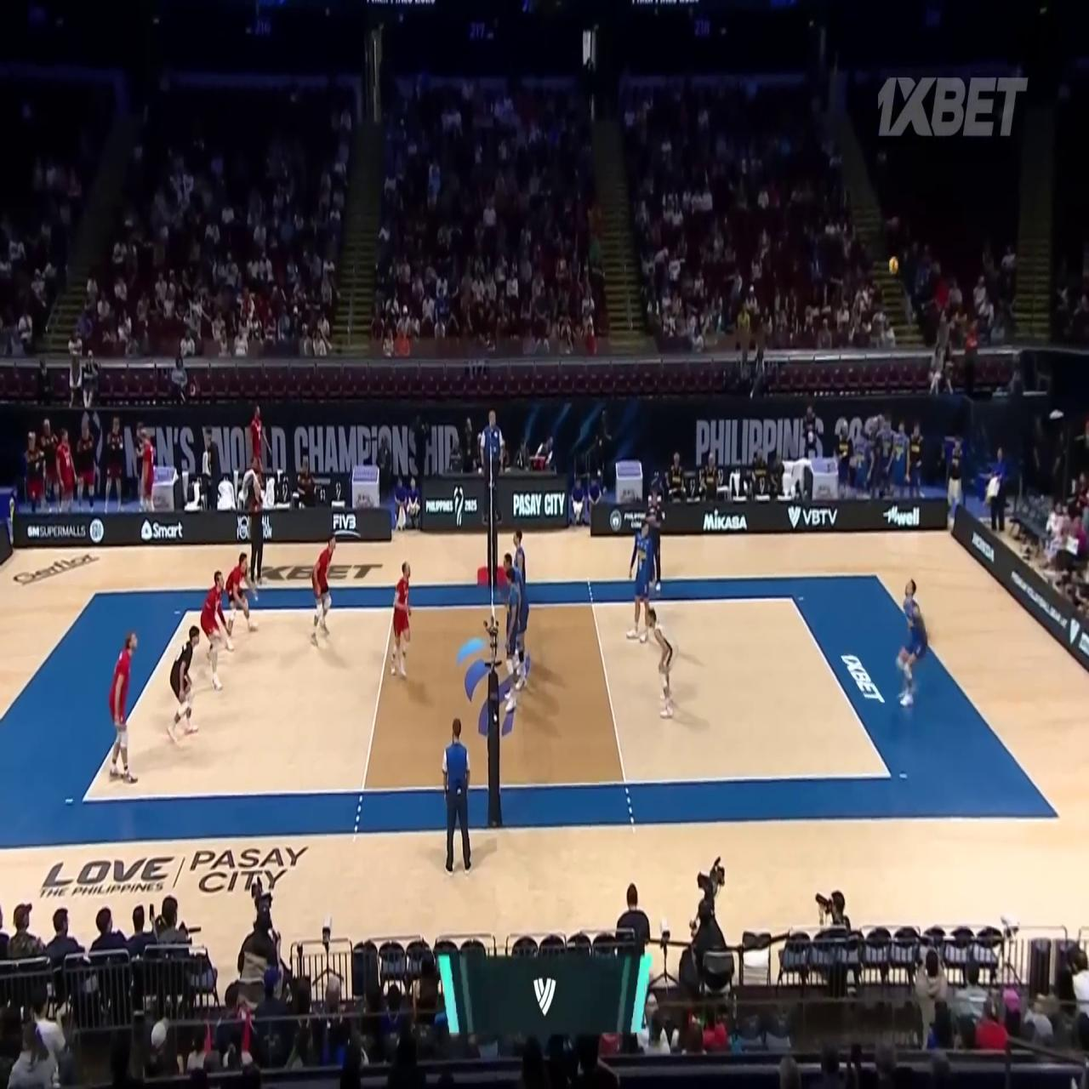ball: (889, 257, 899, 276)
